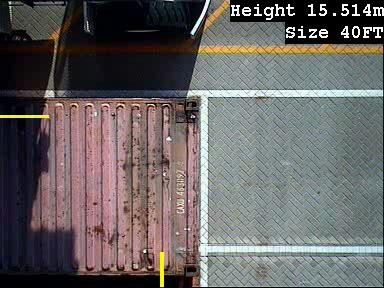groundmarker_2: (170, 28, 249, 74), (175, 144, 254, 190)
